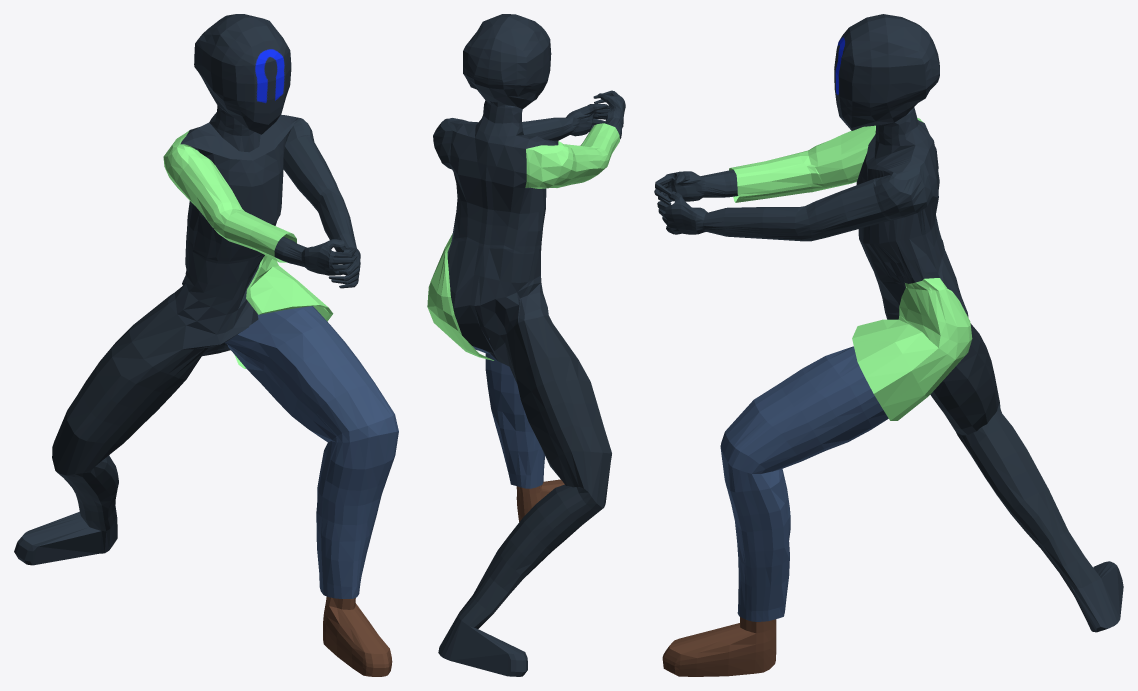
File: Mar_Attack_000020.obj
The picture shows the model from 3 angles, left to right: view 1: azimuth 30°, elevation 25°; view 2: azimuth 150°, elevation 25°; view 3: azimuth 270°, elevation 25°; orthographic projection. The views are drawn at different scales.
Visible parts, largest first — view 1: Cube.000_Cube.001; view 2: Cube.000_Cube.001; view 3: Cube.000_Cube.001.
Boxes of the visible parts, x1=… form: Cube.000_Cube.001: x1=14, y1=14, x2=398, y2=676; Cube.000_Cube.001: x1=427, y1=14, x2=625, y2=676; Cube.000_Cube.001: x1=654, y1=14, x2=1123, y2=676.
Size of the model in its own units: 1.35 by 3.36 by 2.25.
